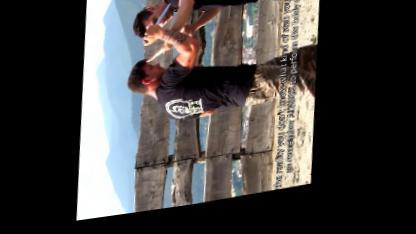knife: (141, 6, 172, 52)
